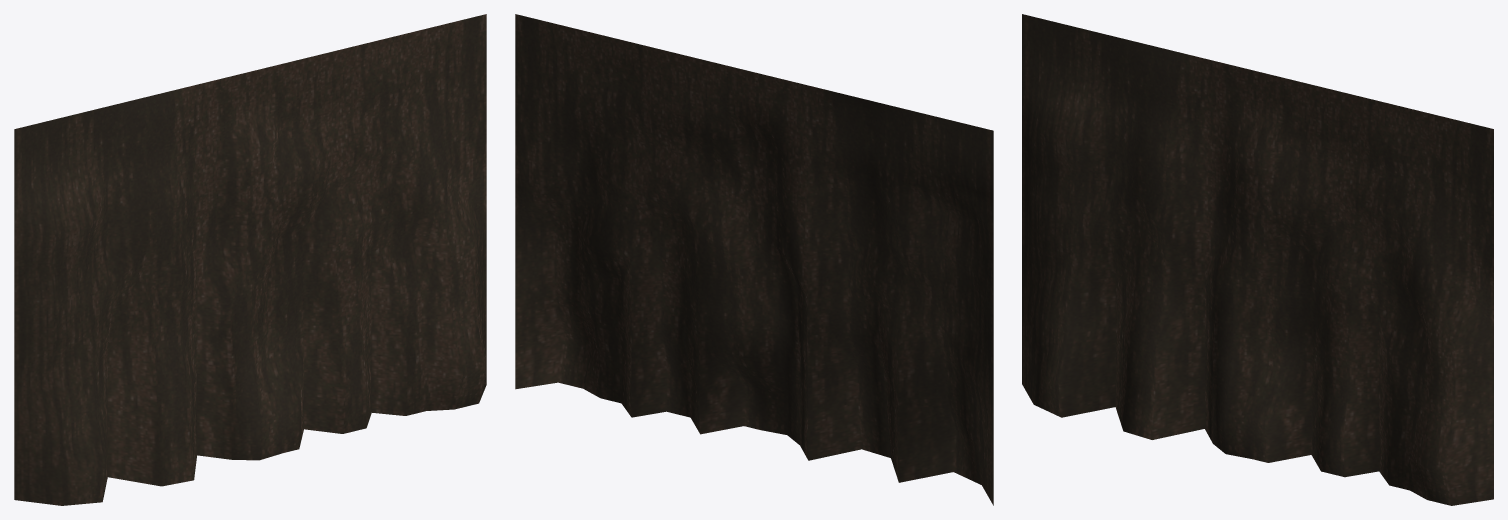
Rendered from wall.fbx.
3 renders of one model, left to right at view 1: azimuth 30°, elevation 25°; view 2: azimuth 150°, elevation 25°; view 3: azimuth 330°, elevation 25°, orthographic.
Visible parts, largest first — view 1: wall_object; view 2: wall_object; view 3: wall_object.
Part boxes in pixels (x1,y1,x2,y2): wall_object: (14,14,486,505); wall_object: (515,14,993,505); wall_object: (1022,14,1493,505).
Bounding box in the file's own units: 400 × 300 × 39.03.
1 material, 1 textured.
